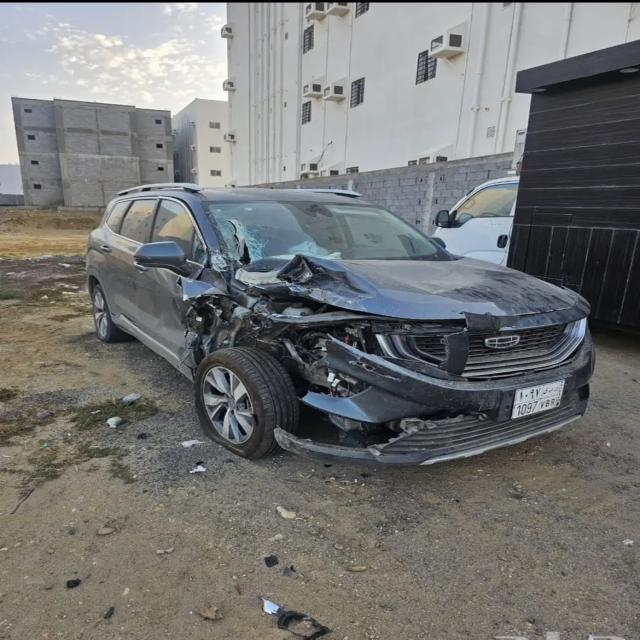license_plate: (512, 378, 567, 424)
